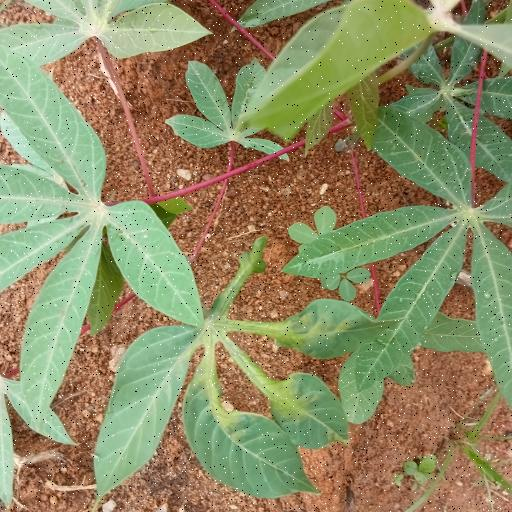Cassava_Mosaic: (306, 120, 512, 434), (0, 43, 181, 394), (92, 288, 390, 500)
